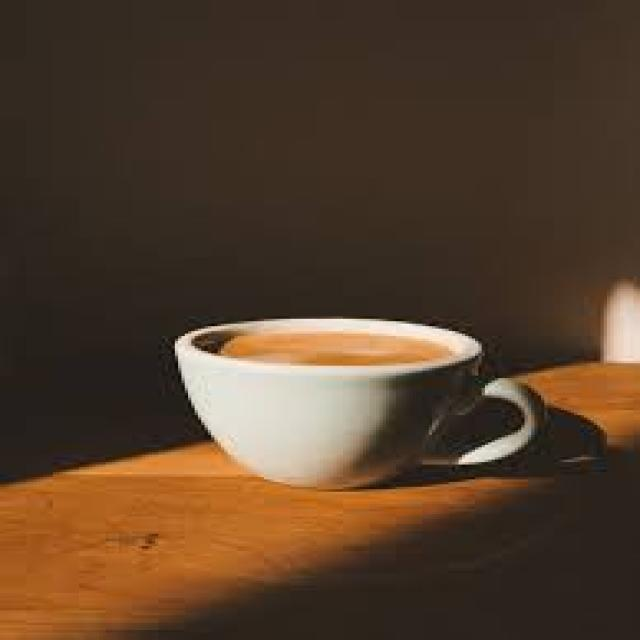taza: (173, 286, 543, 504)
